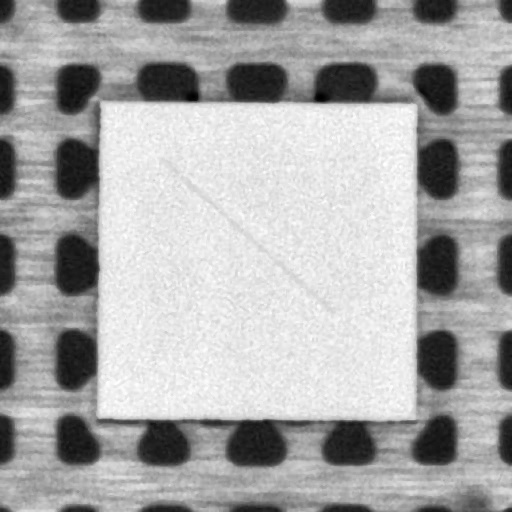DIE_CRACK: (161, 158, 332, 313)
